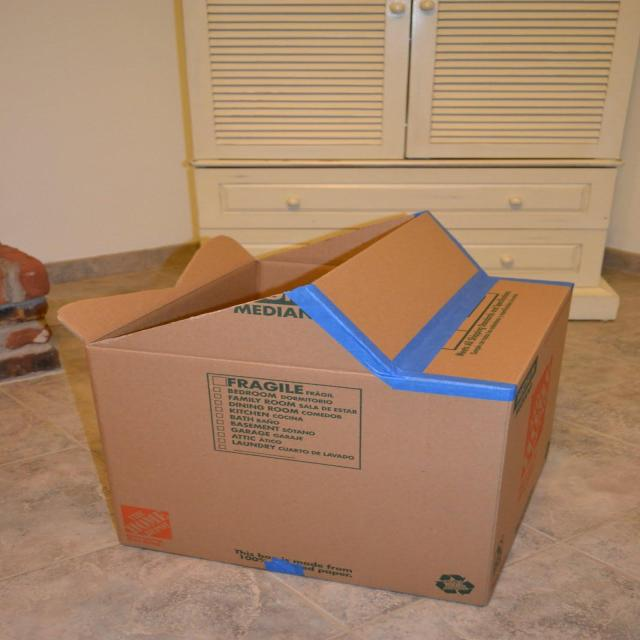cardboard: (55, 210, 578, 608)
